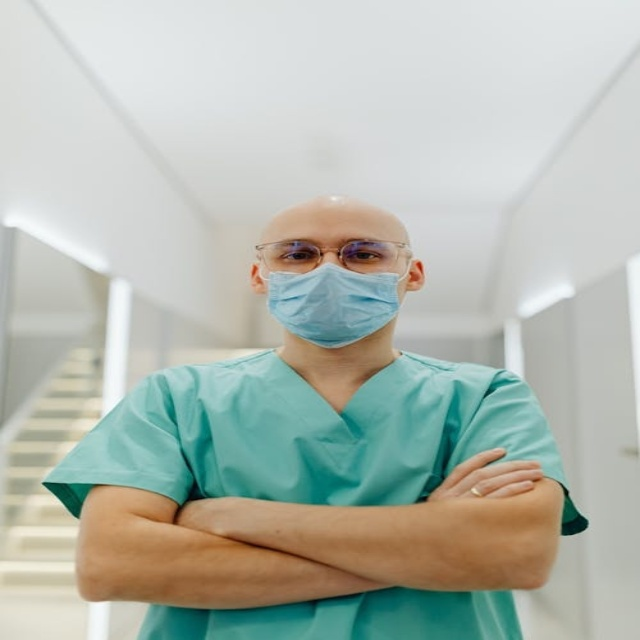Gafas: (254, 239, 413, 273)
Mascara: (263, 260, 406, 347)
Sin_guantes: (430, 450, 543, 502)
